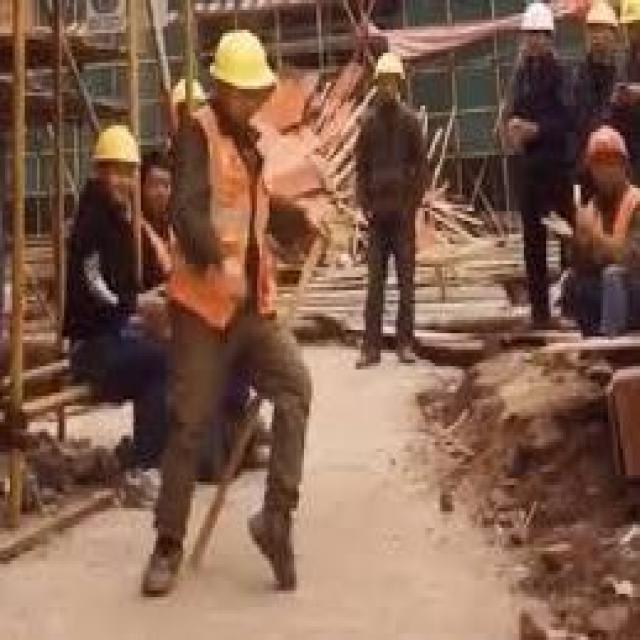Safety-Helmet: (200, 16, 287, 106), (81, 112, 156, 192), (578, 115, 635, 168), (509, 1, 561, 43), (366, 43, 410, 92), (578, 1, 625, 36)
